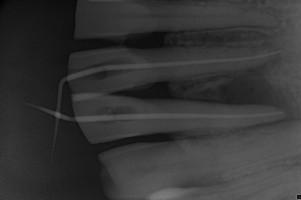Furcation Involvement: (216, 69, 301, 131)
